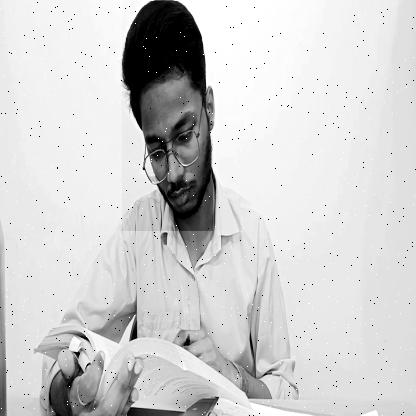Distracted: (122, 1, 213, 232)
